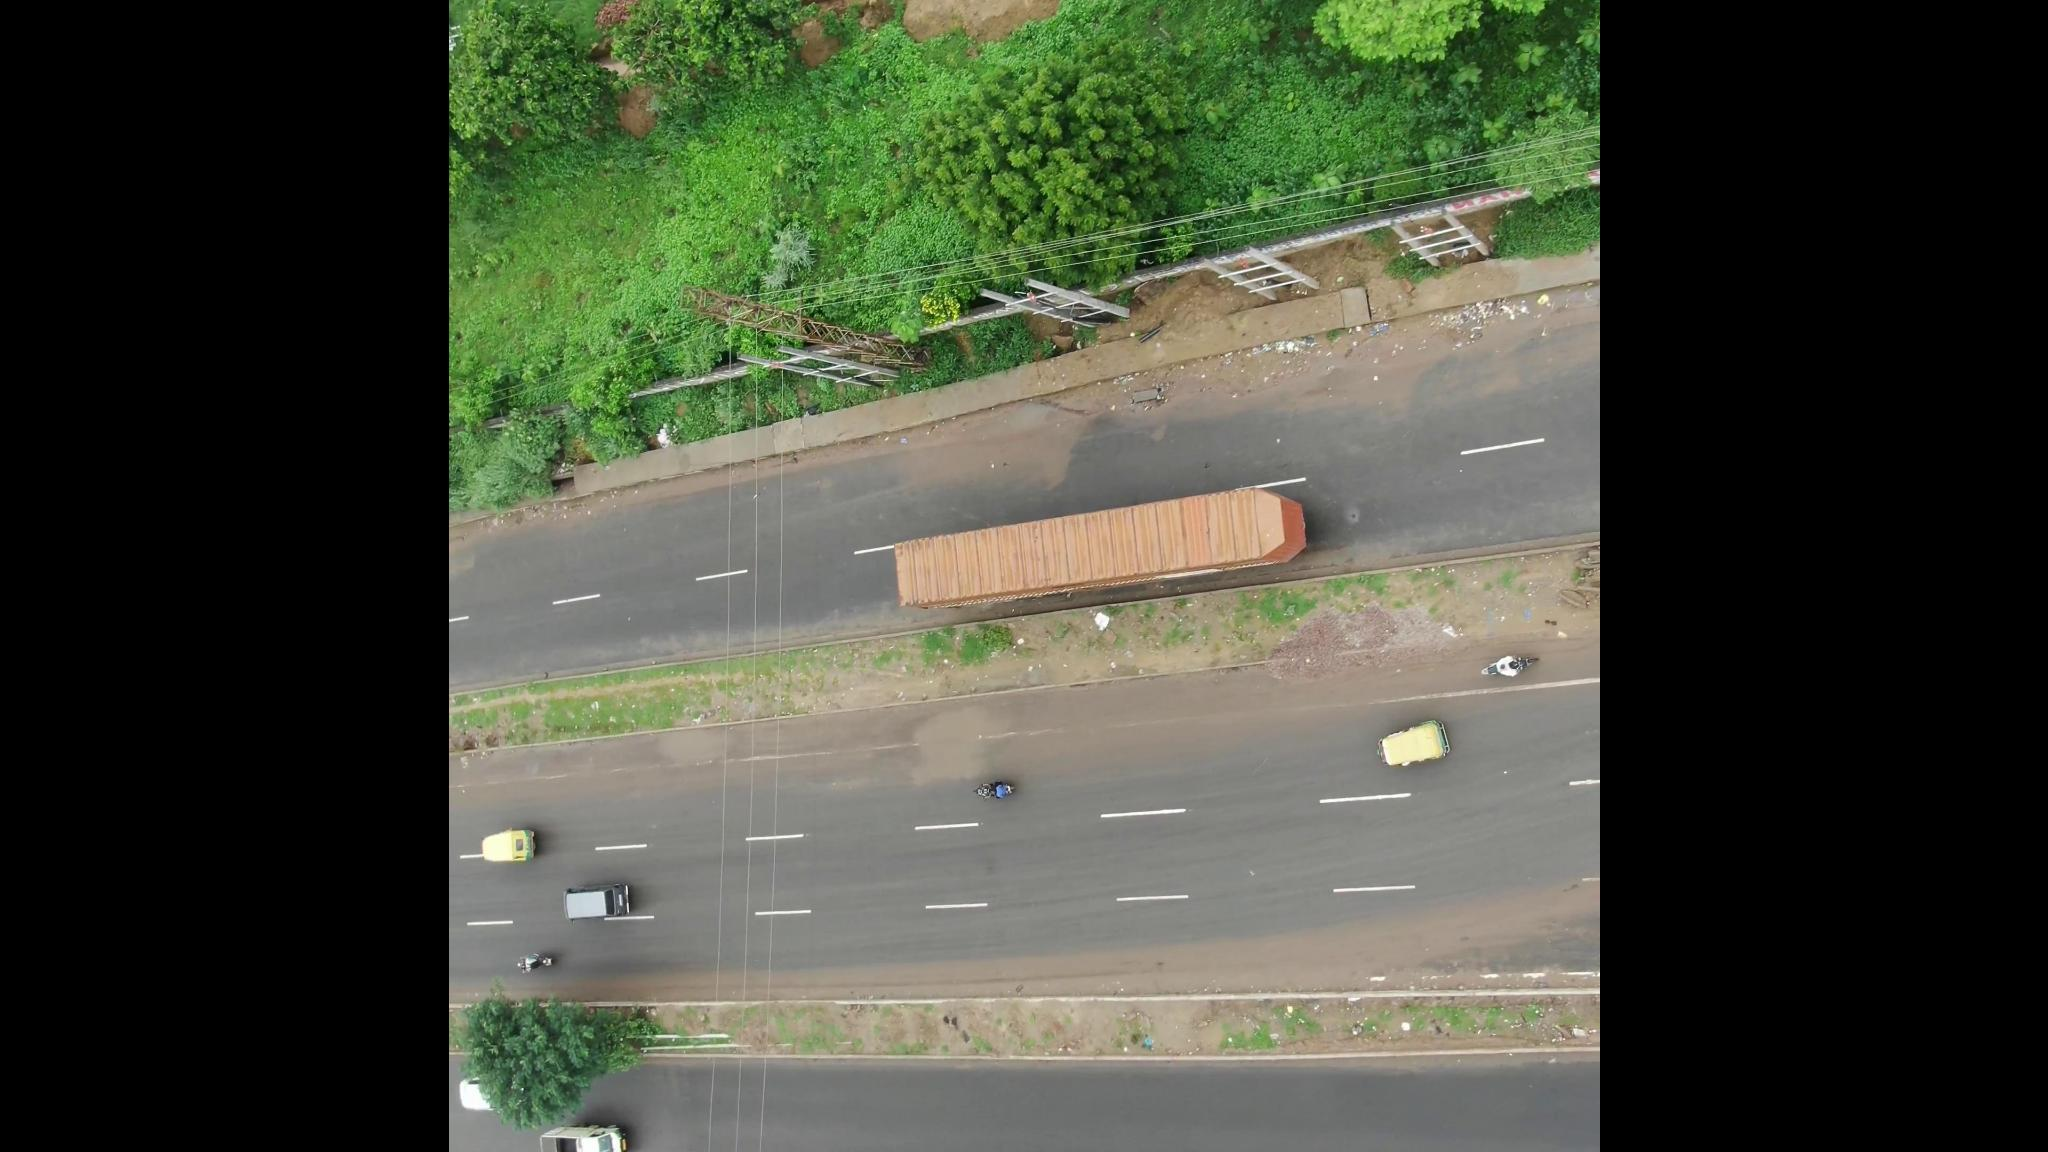Muddy_road: (1357, 294, 1540, 384), (919, 391, 1101, 470), (1137, 353, 1350, 416)
Waterlogging: (881, 693, 1007, 817)
